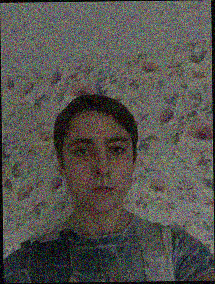without_mask: (62, 133, 135, 215)
